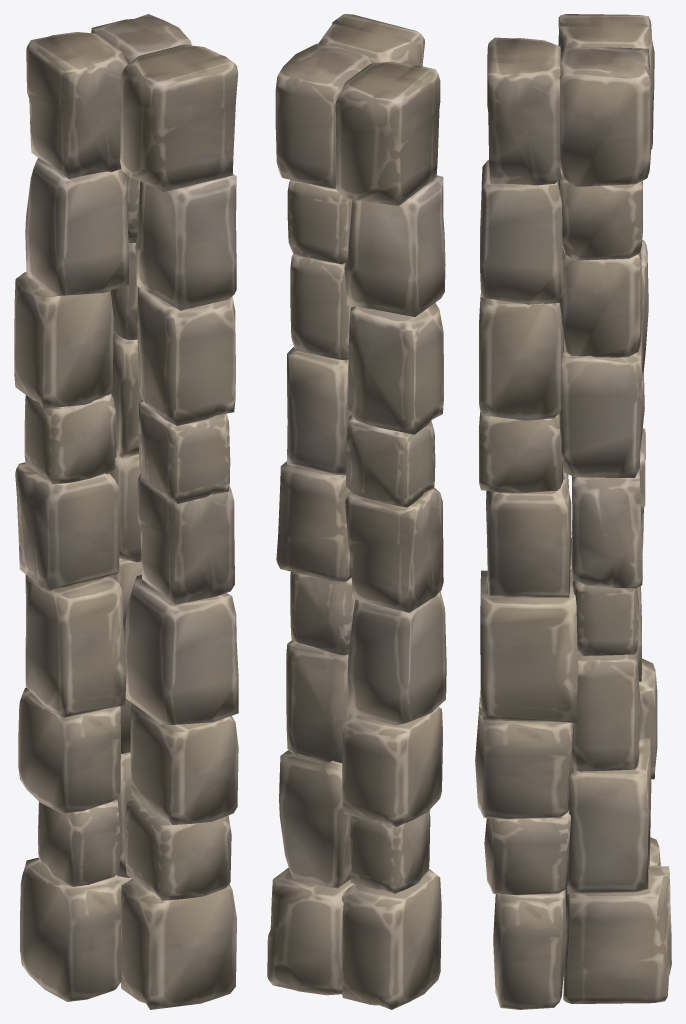
Rendered from Corner_Exterior_Brick.gltf.
The picture shows the model from 3 angles, left to right: view 1: azimuth 30°, elevation 25°; view 2: azimuth 150°, elevation 25°; view 3: azimuth 270°, elevation 25°; orthographic projection. The views are drawn at different scales.
Visible parts, largest first — view 1: Corner_Exterior_Brick; view 2: Corner_Exterior_Brick; view 3: Corner_Exterior_Brick.
Part boxes in pixels (x1,y1,x2,y2): Corner_Exterior_Brick: [14, 14, 238, 1009]; Corner_Exterior_Brick: [267, 14, 446, 1009]; Corner_Exterior_Brick: [475, 14, 671, 1009].
Size of the model in its own units: 0.5307 by 3.02 by 0.5758.
Materials: 1 (1 with a texture image).
